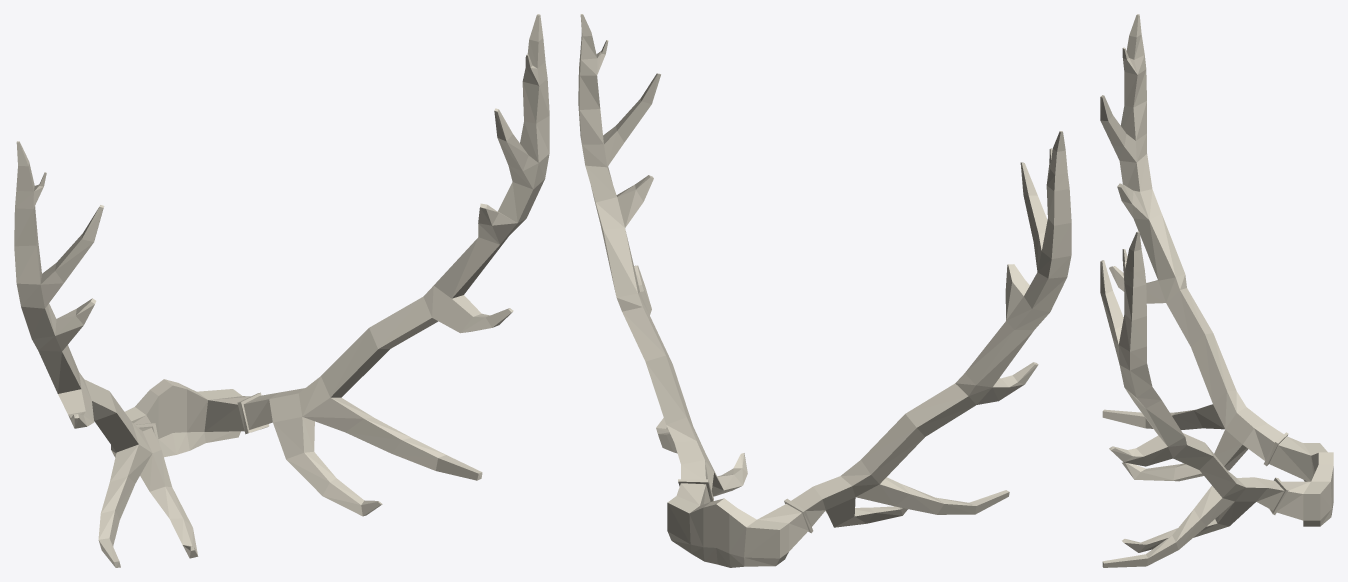
File: antler.gltf
3 views of the same model, side by side, from view 1: azimuth 30°, elevation 25°; view 2: azimuth 150°, elevation 25°; view 3: azimuth 270°, elevation 25° (orthographic). The views are drawn at different scales.
Visible parts, largest first — view 1: node-0; view 2: node-0; view 3: node-0.
Part boxes in pixels (x1,y1,x2,y2): node-0: [14, 14, 549, 567]; node-0: [578, 14, 1071, 567]; node-0: [1100, 14, 1333, 567].
Size of the model in its own units: 20.39 by 16.7 by 9.
